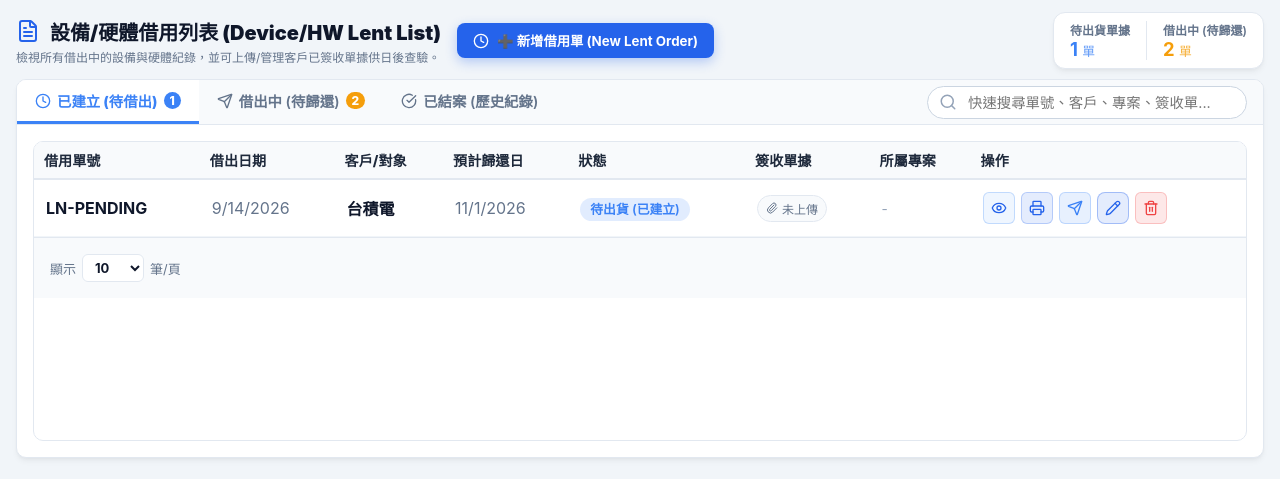
Test case: 借用列表上延長 › 借出中的單有「延長」按鈕，待借出的沒有
Expected: the text "LN-PENDING" is shown, [34, 179, 200, 236]
Click the button "借出中 (待歸還) 2": [291, 102] box [199, 80, 383, 124]
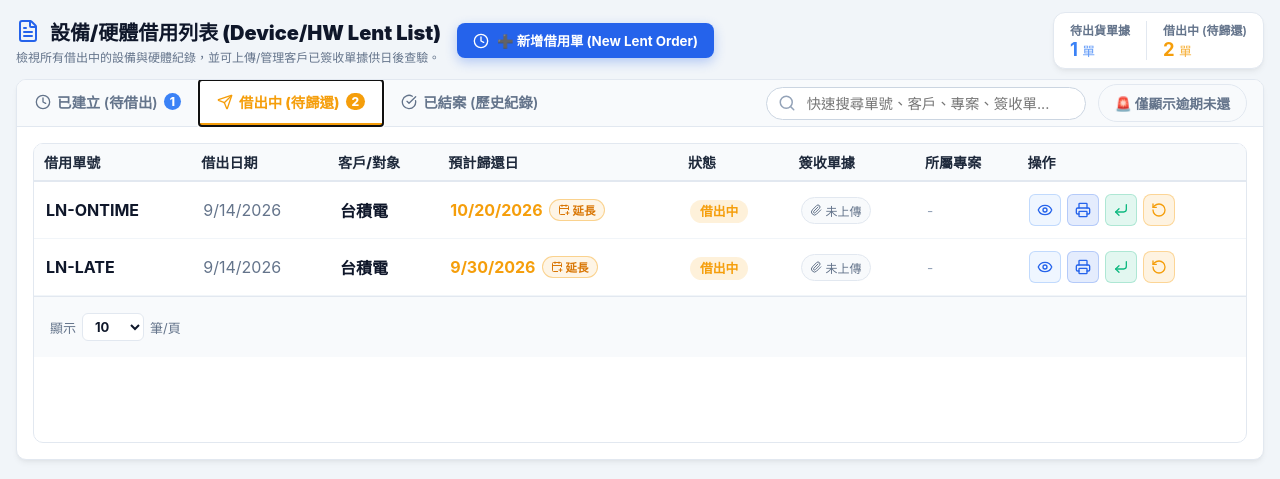
Result: the text "LN-ONTIME" is shown at [34, 181, 191, 238]
Result: the button with aria-label "延長預計歸還日 LN-ONTIME" is shown at [548, 199, 604, 221]
